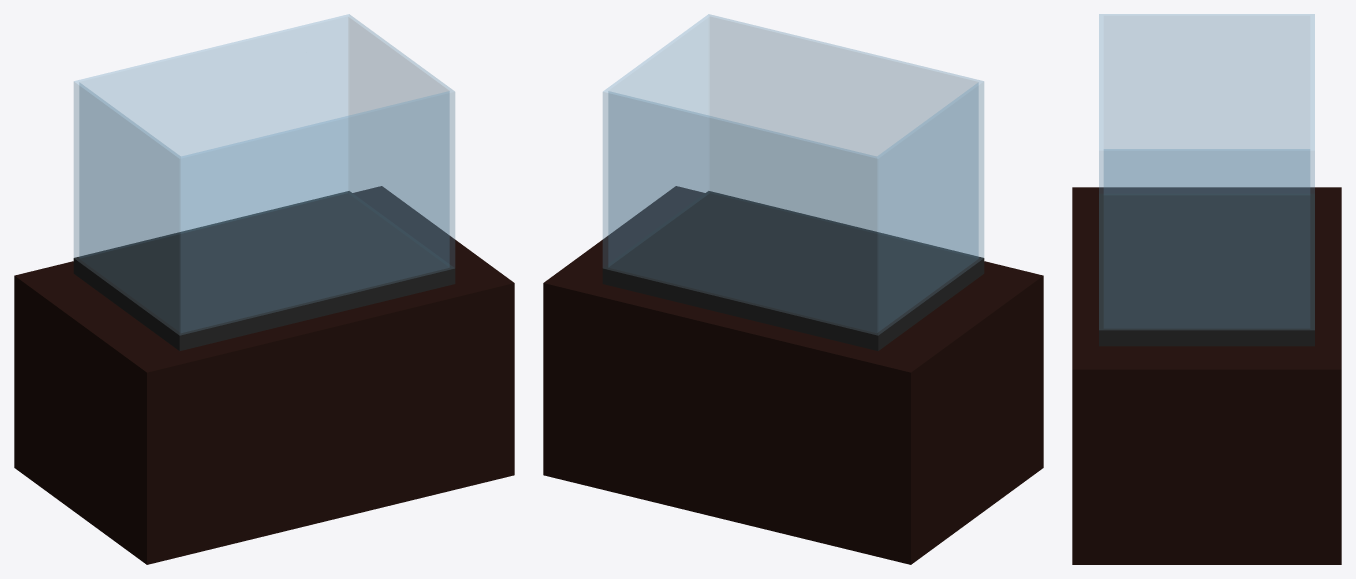
The model's file is fish_tank.fbx.
3 renders of one model, left to right at view 1: azimuth 30°, elevation 25°; view 2: azimuth 150°, elevation 25°; view 3: azimuth 270°, elevation 25°, orthographic.
Parts seen in each view (by area): view 1: Table, Tank; view 2: Table, Tank; view 3: Tank, Table.
Boxes of the visible parts, x1=… form: Table: x1=14, y1=186, x2=514, y2=564; Tank: x1=73, y1=14, x2=455, y2=350; Table: x1=543, y1=186, x2=1043, y2=564; Tank: x1=602, y1=14, x2=984, y2=350; Tank: x1=1099, y1=14, x2=1314, y2=346; Table: x1=1072, y1=187, x2=1341, y2=564.
Size of the model in its own units: 400 by 401 by 250.
